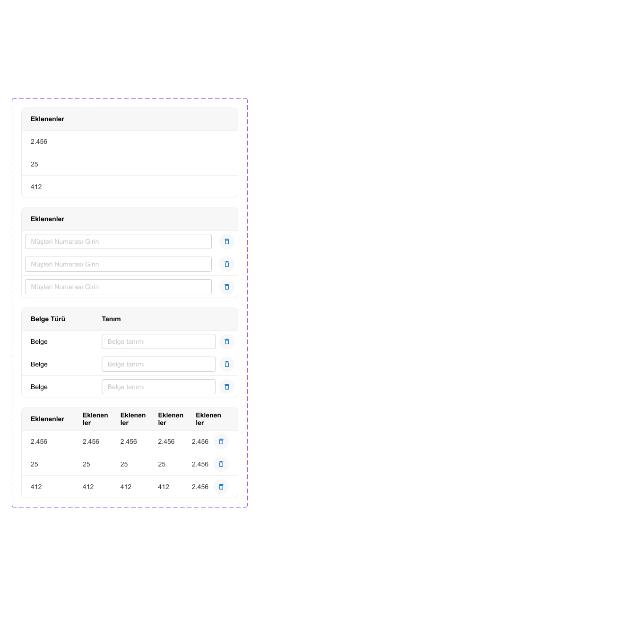VDataTable: (21, 106, 240, 200), (21, 206, 240, 300), (21, 306, 240, 400), (20, 408, 238, 500)
